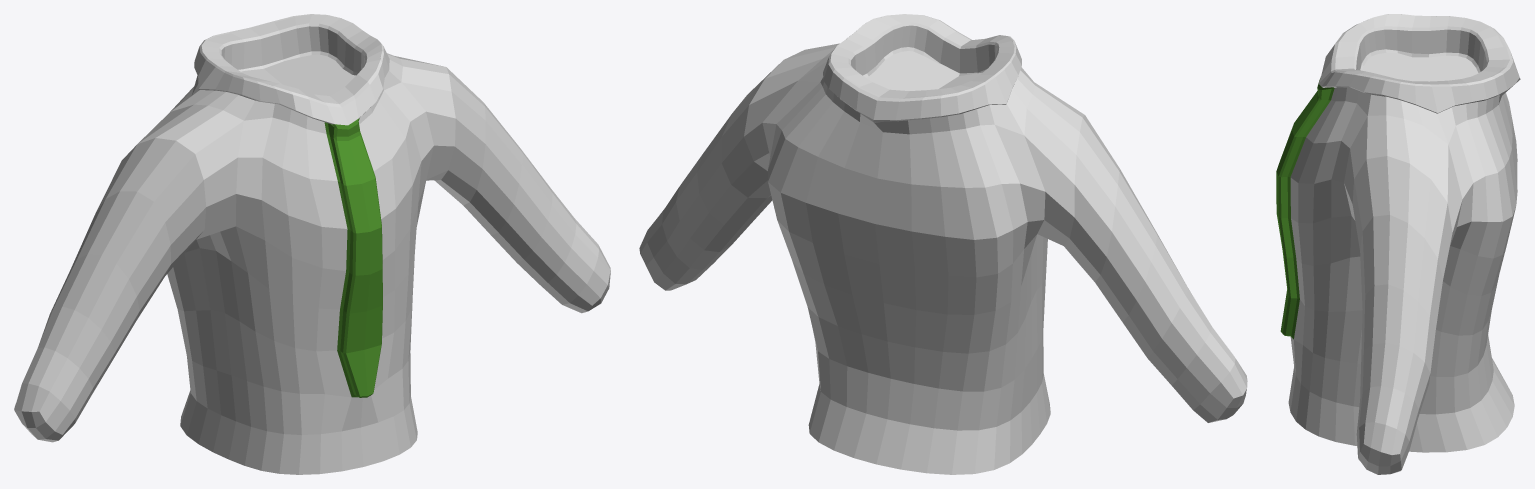
File: BodyShirtTie.fbx
3 renders of one model, left to right at view 1: azimuth 30°, elevation 25°; view 2: azimuth 150°, elevation 25°; view 3: azimuth 270°, elevation 25°, orthographic. The views are drawn at different scales.
Visible parts, largest first — view 1: ShirtTieBody; view 2: ShirtTieBody; view 3: ShirtTieBody.
Part boxes in pixels (box(x1,y1,x2,y2)): ShirtTieBody: box(14, 14, 610, 474); ShirtTieBody: box(639, 14, 1247, 474); ShirtTieBody: box(1276, 14, 1520, 474).
Size of the model in its own units: 215 by 130 by 79.51.
